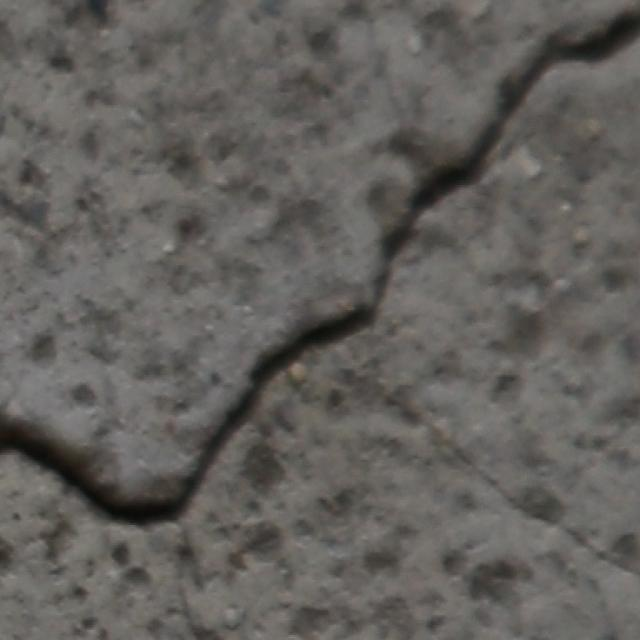Diagonal: (0, 8, 640, 530)
